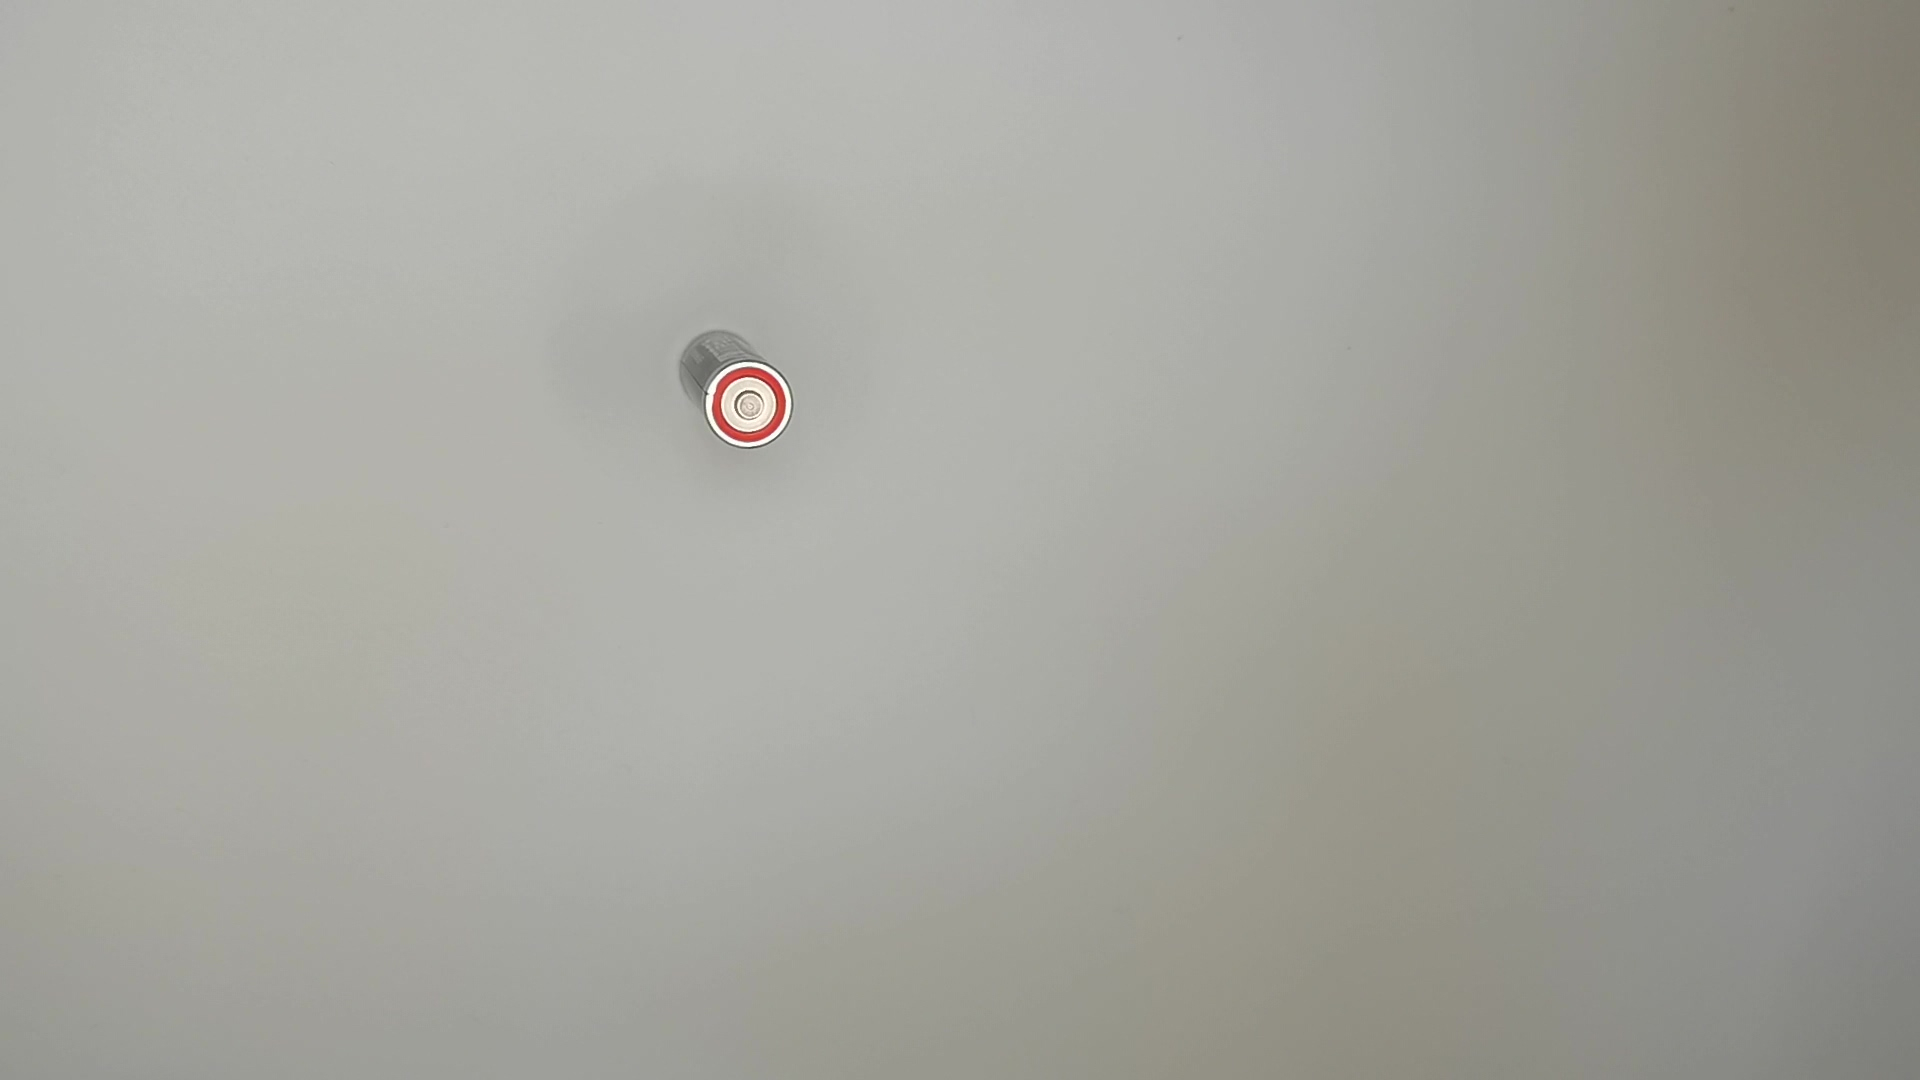battery: (675, 323, 796, 454)
